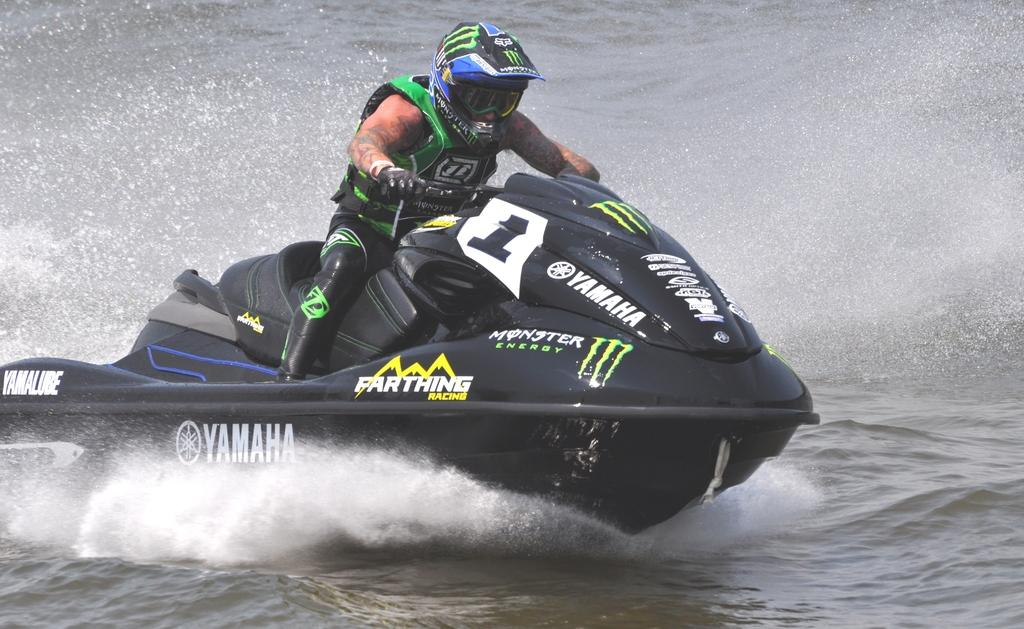helmet: (428, 21, 546, 155)
